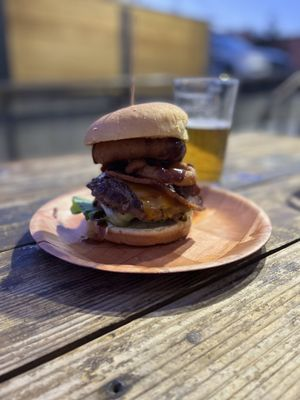pizza: (171, 76, 240, 184)
